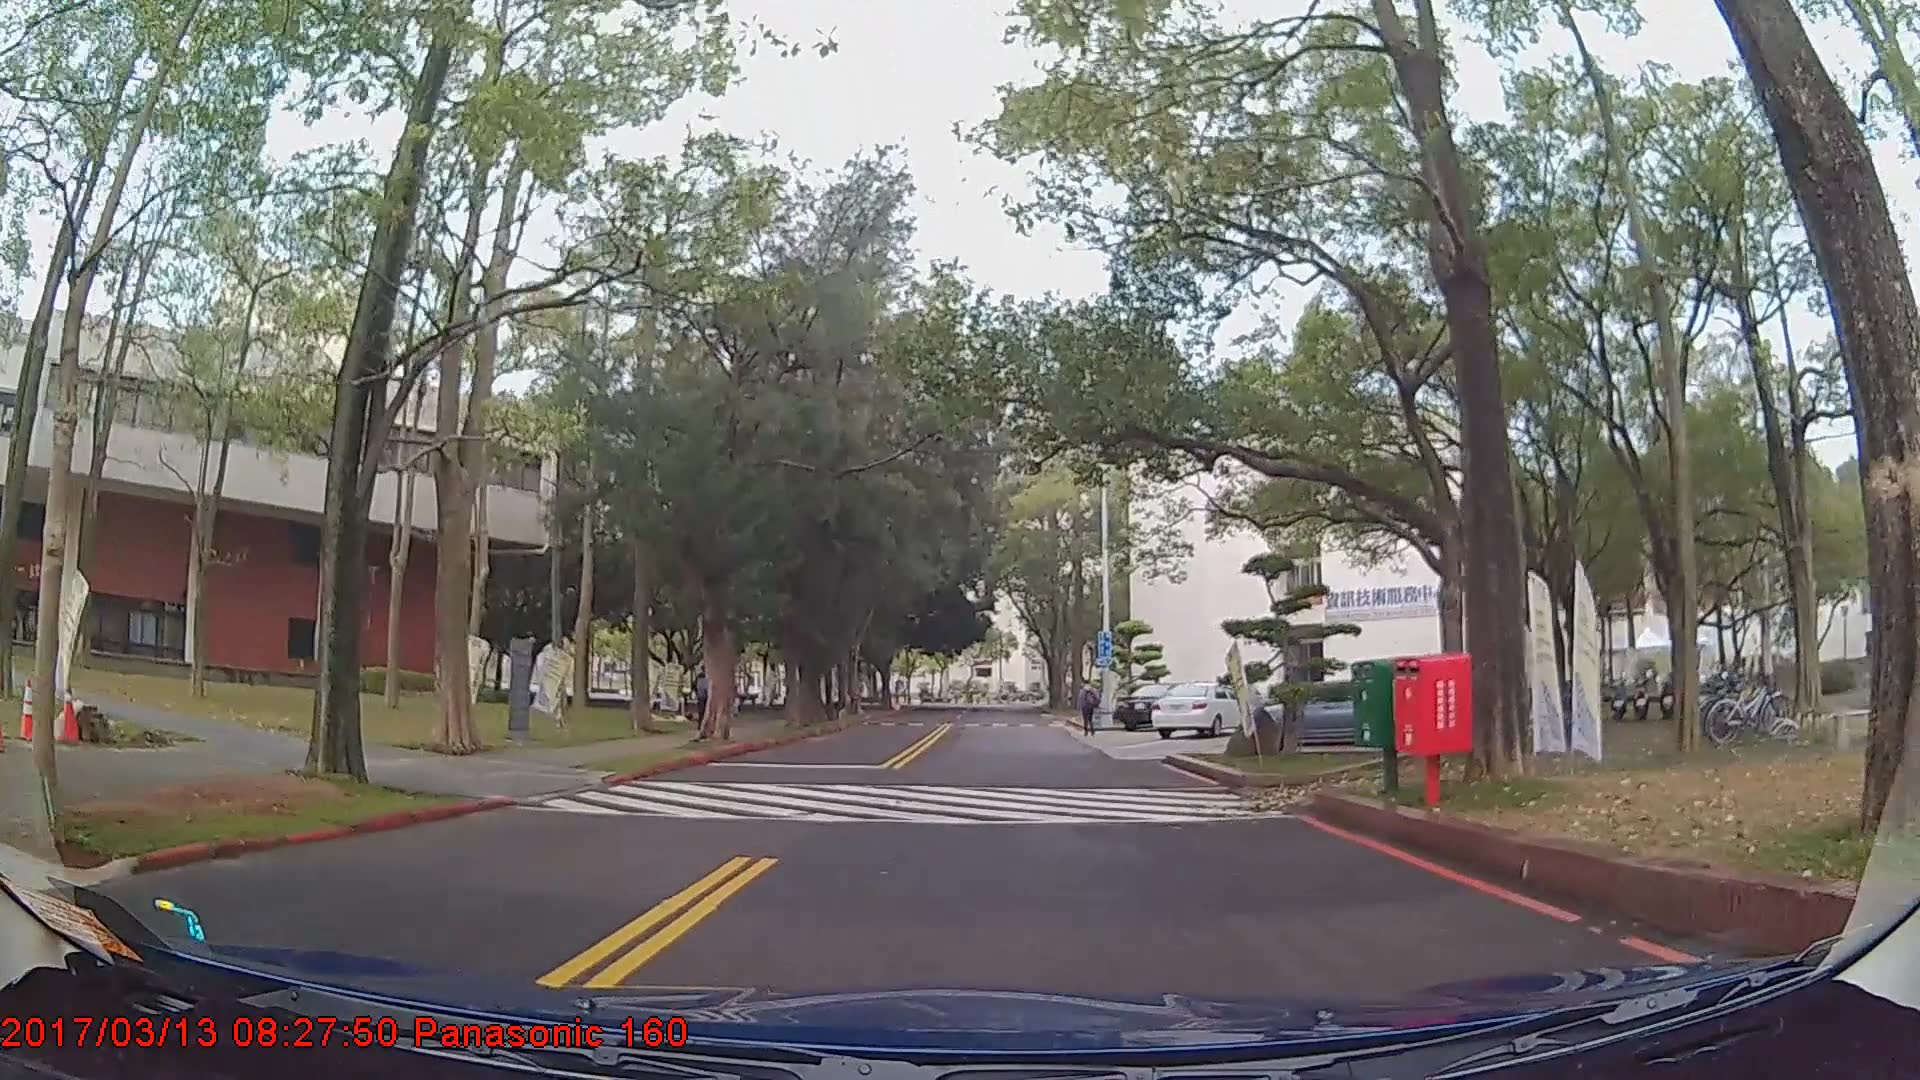pedestrian: (693, 669, 721, 742), (1076, 680, 1102, 740)
vehicle: (1155, 679, 1255, 735), (1112, 679, 1199, 730)
